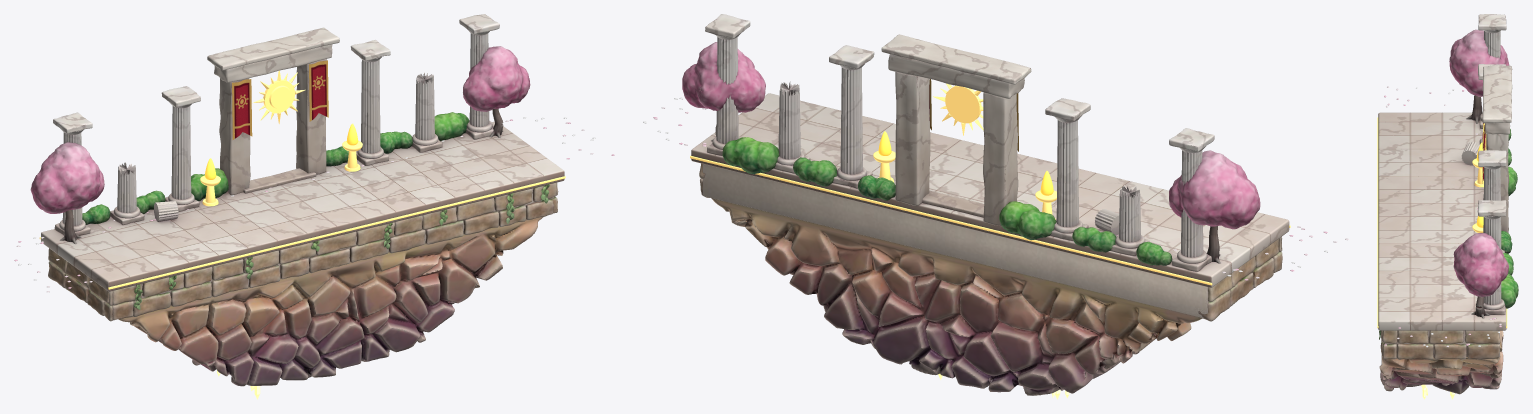
File: templo.glb
3 views of the same model, side by side, from view 1: azimuth 30°, elevation 25°; view 2: azimuth 150°, elevation 25°; view 3: azimuth 270°, elevation 25° (orthographic). The views are drawn at different scales.
Parts seen in each view (by area): view 1: templo_roca, piso, muro, columnas, portal, copas, oro, arbustos, estandartes, enredaderas, troncos; view 2: templo_roca, piso, muro, columnas, portal, copas, arbustos, oro; view 3: piso, copas, columnas, templo_roca, muro, portal, arbustos, oro, troncos, petalos.
Part boxes in pixels (x1=…): templo_roca: x1=118, y1=217, x2=542, y2=386; piso: x1=41, y1=121, x2=564, y2=291; muro: x1=48, y1=182, x2=558, y2=321; columnas: x1=53, y1=14, x2=499, y2=235; portal: x1=207, y1=27, x2=339, y2=195; copas: x1=30, y1=46, x2=530, y2=213; oro: x1=39, y1=70, x2=565, y2=289; arbustos: x1=82, y1=112, x2=469, y2=224; estandartes: x1=232, y1=60, x2=328, y2=139; enredaderas: x1=133, y1=184, x2=549, y2=309; troncos: x1=60, y1=108, x2=503, y2=244; templo_roca: x1=711, y1=198, x2=1202, y2=395; piso: x1=691, y1=93, x2=1289, y2=287; muro: x1=699, y1=163, x2=1282, y2=321; columnas: x1=705, y1=14, x2=1214, y2=271; portal: x1=881, y1=34, x2=1031, y2=226; copas: x1=682, y1=42, x2=1260, y2=229; arbustos: x1=722, y1=137, x2=1172, y2=265; oro: x1=690, y1=83, x2=1290, y2=285; piso: x1=1378, y1=112, x2=1506, y2=330; copas: x1=1449, y1=29, x2=1509, y2=297; columnas: x1=1461, y1=14, x2=1506, y2=314; templo_roca: x1=1379, y1=330, x2=1503, y2=394; muro: x1=1380, y1=330, x2=1500, y2=359; portal: x1=1482, y1=65, x2=1512, y2=232; arbustos: x1=1501, y1=129, x2=1518, y2=308; oro: x1=1377, y1=117, x2=1507, y2=328; troncos: x1=1466, y1=95, x2=1489, y2=318; petalos: x1=1384, y1=86, x2=1501, y2=347.
Bounding box in the file's own units: 24.1 × 12.71 × 5.52.
14 materials, 6 textured.
